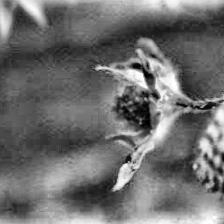Gray Mold: (95, 39, 224, 191)
